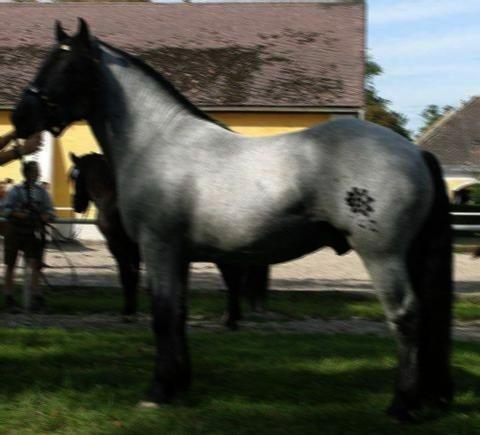horse: (8, 15, 456, 424), (66, 149, 270, 328)
